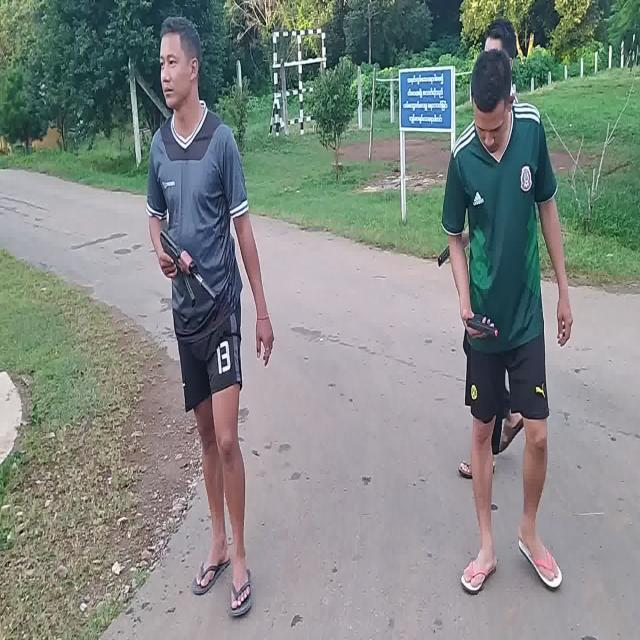gun: (160, 230, 218, 305), (467, 312, 498, 337)
